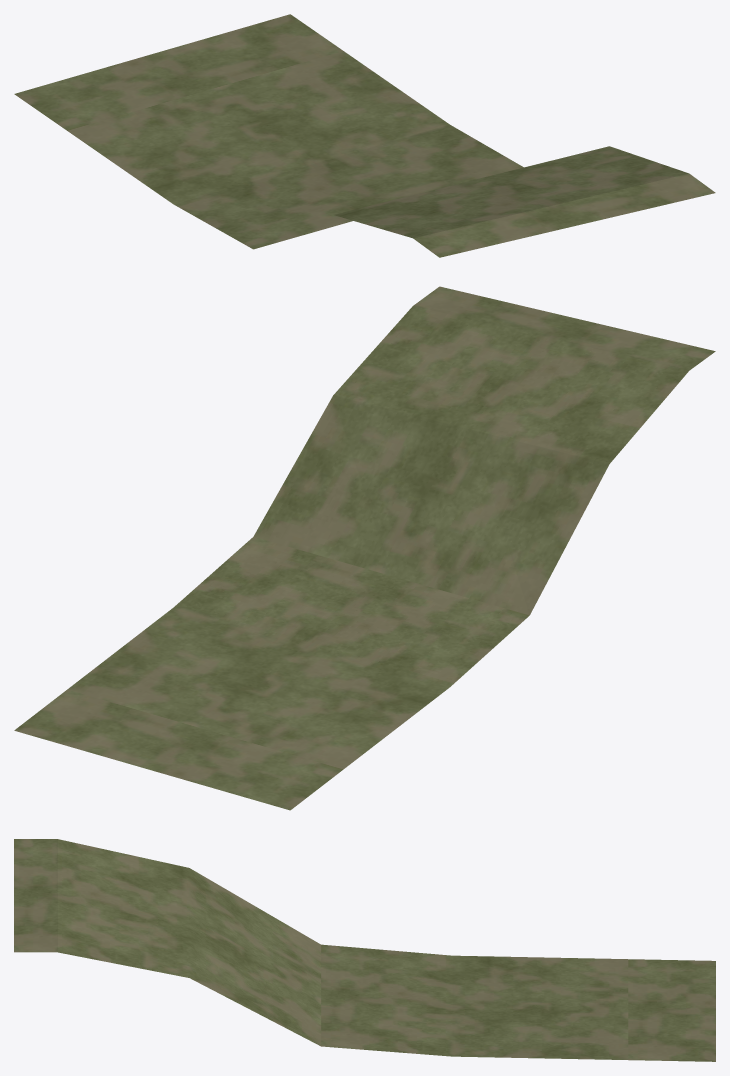
3 renders of one model, top to bottom at view 1: azimuth 30°, elevation 25°; view 2: azimuth 150°, elevation 25°; view 3: azimuth 270°, elevation 25°, orthographic. The views are drawn at different scales.
Bounding box in the file's own units: 6 × 3.06 × 16.
Materials: 1 (1 with a texture image).
